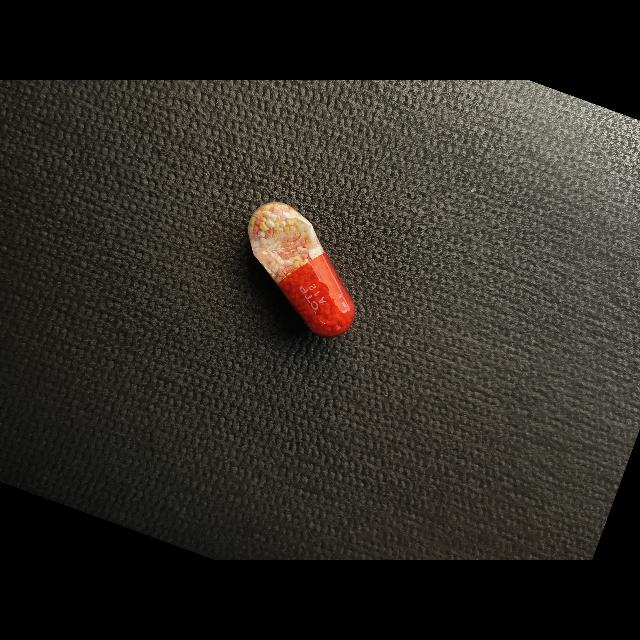Defective Capsule: (248, 202, 355, 336)
